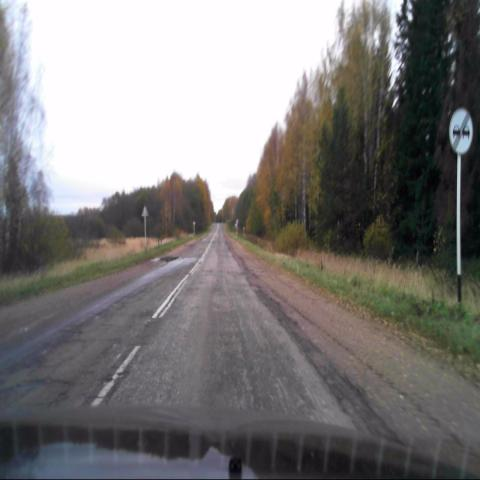3_21: (448, 107, 473, 156)
